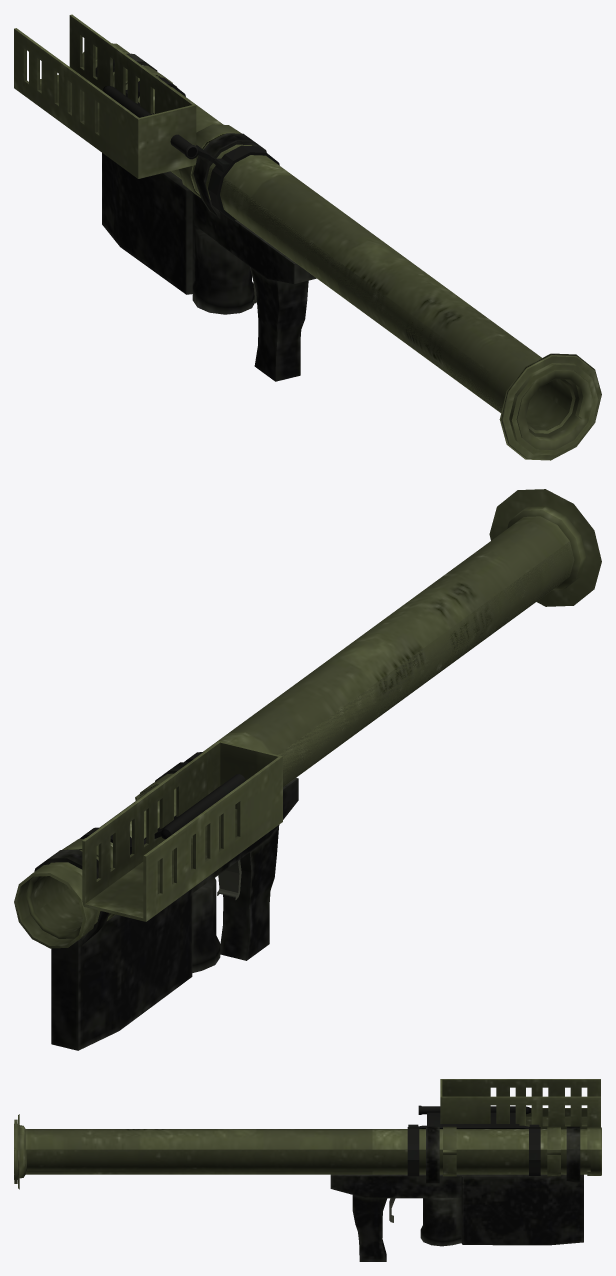
The model's file is mp_stinger.glb.
3 views of the same model, one above another, from view 1: azimuth 30°, elevation 25°; view 2: azimuth 150°, elevation 25°; view 3: azimuth 270°, elevation 25° (orthographic). The views are drawn at different scales.
Parts seen in each view (by area): view 1: body|lambert2, body|lambert3, body|lambert4; view 2: body|lambert2, body|lambert3, body|lambert4; view 3: body|lambert2, body|lambert3, body|lambert4.
Boxes of the visible parts, x1,y1,x2,y2 form: body|lambert2: (14,14,601,460); body|lambert3: (95,53,316,381); body|lambert4: (103,77,279,221); body|lambert2: (14,489,601,948); body|lambert3: (34,762,298,1050); body|lambert4: (79,752,245,854); body|lambert2: (14,1079,601,1189); body|lambert3: (330,1126,583,1261); body|lambert4: (407,1105,540,1176).
Size of the model in its own units: 0.2662 by 0.4323 by 1.52.
Materials: 4 (4 with a texture image).
